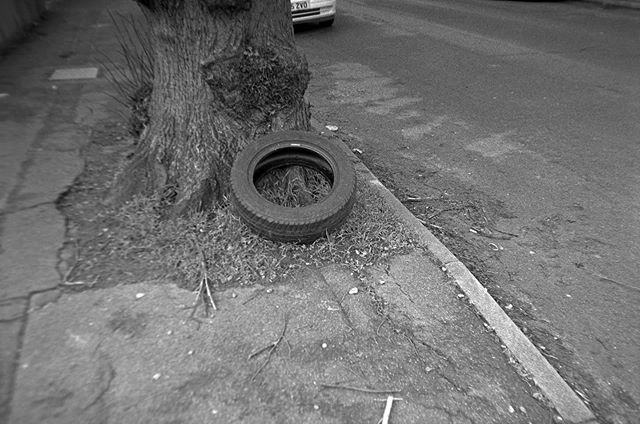sidewalk: (1, 20, 545, 411)
street: (363, 1, 640, 402)
